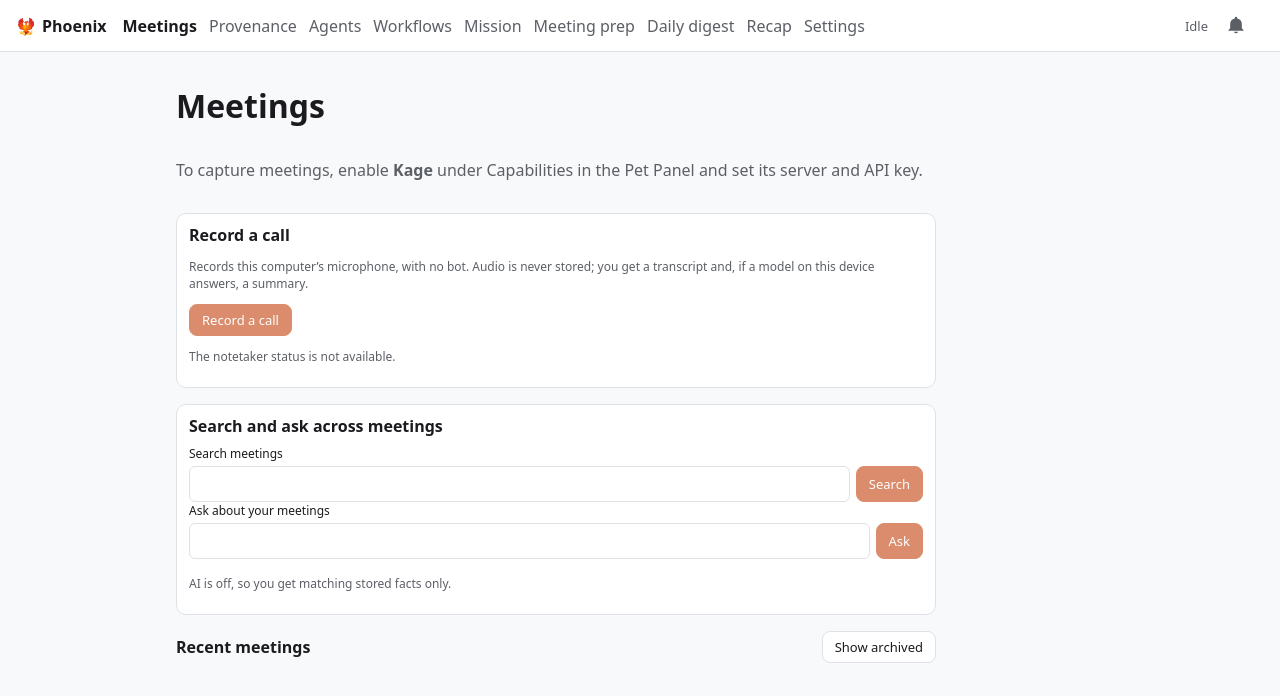
Scenario: Search across meetings › says plainly when nothing matched
Type "zzz" into the field labelled "Search meetings" at {"x": 519, "y": 484}, box [189,466,850,502]
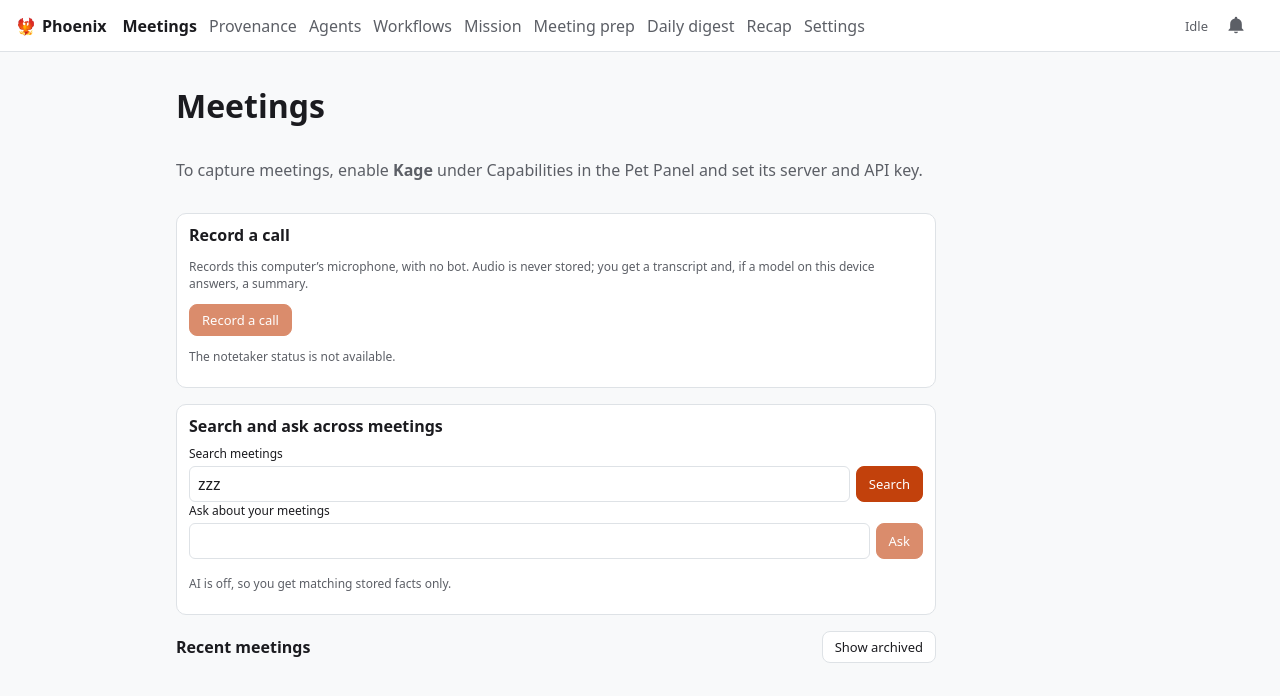
Click the button "Search" at {"x": 889, "y": 484}, box [856,466,923,502]
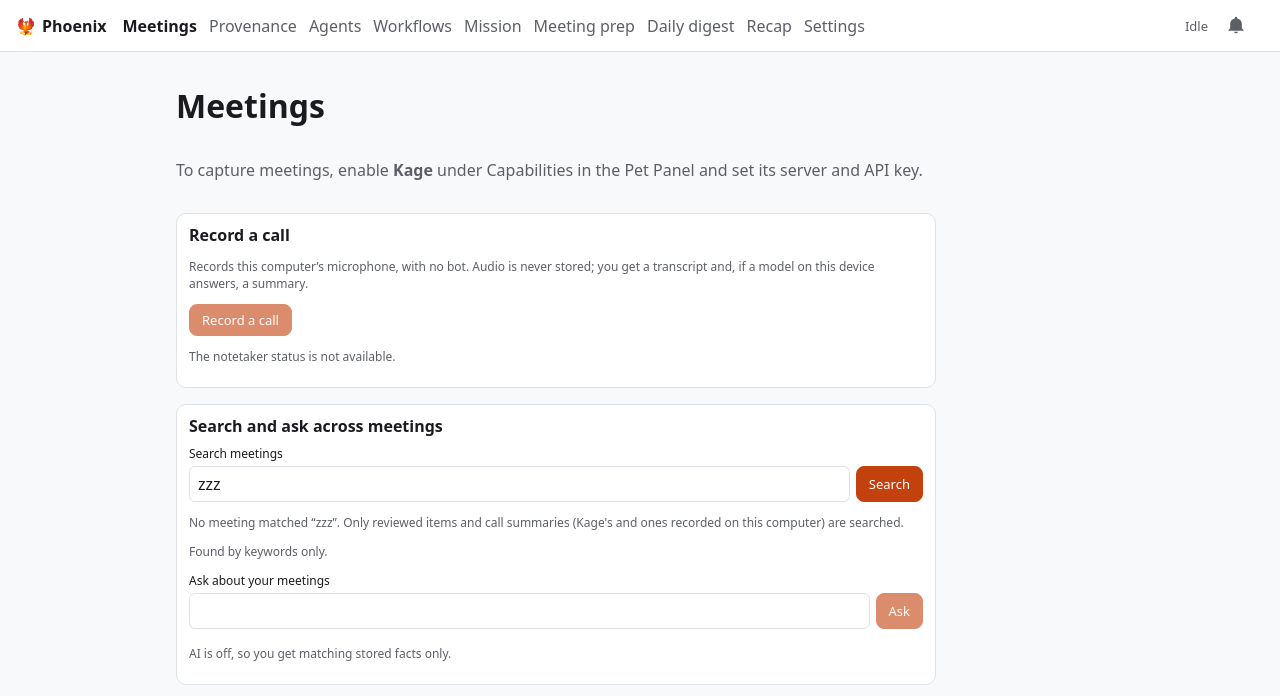
Expected: the text "No meeting matched “zzz”" is shown, [189,514,904,531]
